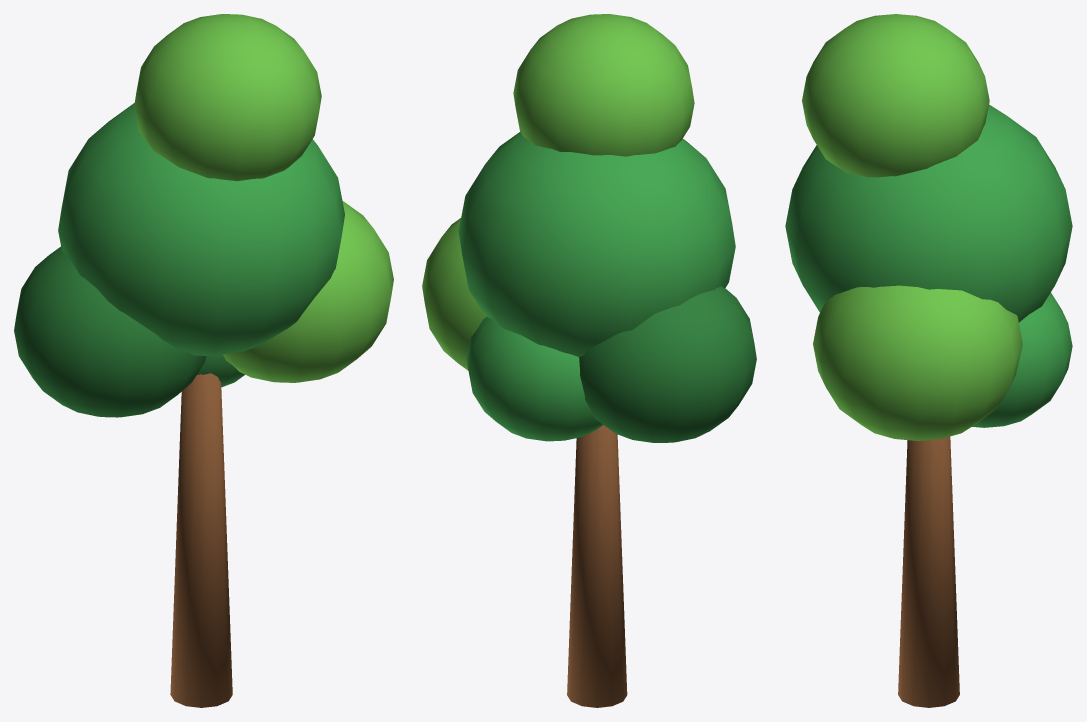
Rendered from tree_round_big.glb.
3 views of the same model, side by side, from view 1: azimuth 30°, elevation 25°; view 2: azimuth 150°, elevation 25°; view 3: azimuth 270°, elevation 25° (orthographic). The views are drawn at different scales.
Parts seen in each view (by area): view 1: Body; view 2: Body; view 3: Body.
Boxes of the visible parts, x1,y1,x2,y2 form: Body: (14, 14, 393, 707); Body: (422, 14, 756, 707); Body: (785, 14, 1072, 707).
Size of the model in its own units: 3.5 by 6.76 by 2.6.
